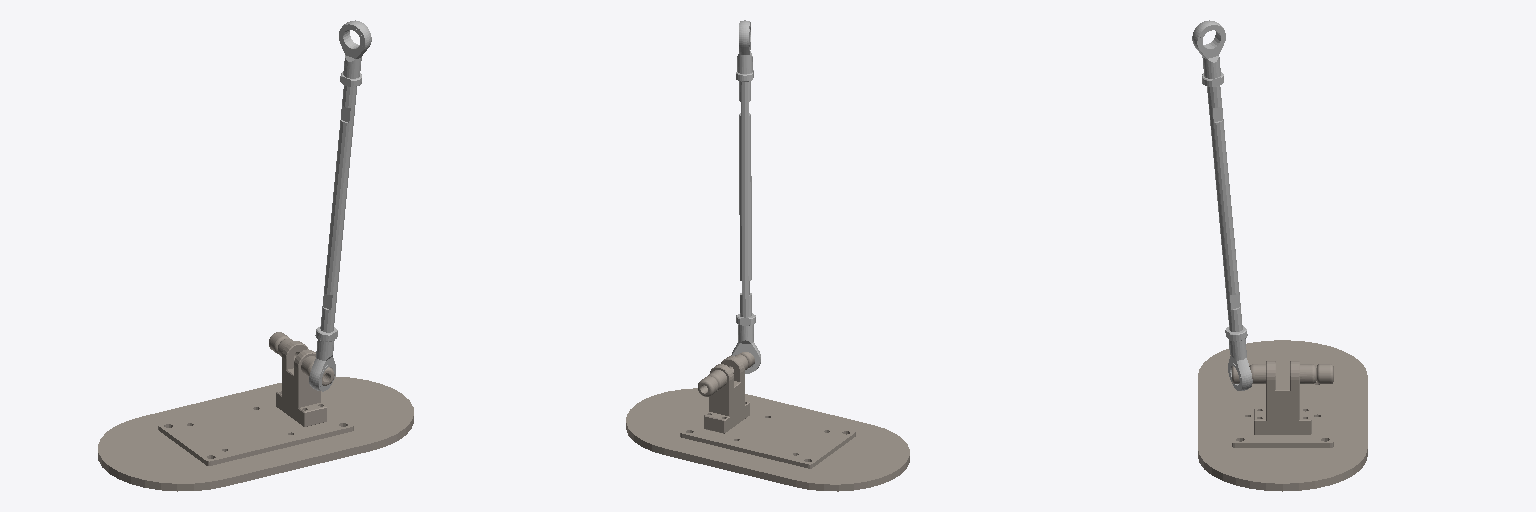
URDF robot description (AS_ankle_R2):
<?xml version="1.0" encoding="utf-8"?>

<robot
  name="AS_ankle_R2">
  <link
    name="Foot_link">
    <inertial>
      <origin
        xyz="-7.55063854190885E-07 -3.46944695195361E-18 -0.000843324114109798"
        rpy="0 0 0" />
      <mass
        value="0.835807251447352" />
      <inertia
        ixx="0.000560229778636803"
        ixy="-2.79822419196593E-19"
        ixz="-7.30466374127998E-20"
        iyy="0.00205349180242925"
        iyz="-3.41739150878633E-20"
        izz="0.00261060495382987" />
    </inertial>
    <visual>
      <origin
        xyz="0 0 0"
        rpy="0 0 0" />
      <geometry>
        <mesh
          filename="package://mycobot_description/urdf/ankle/Foot_link.STL" />
      </geometry>
      <material
        name="">
        <color
          rgba="0.650980392156863 0.619607843137255 0.588235294117647 1" />
      </material>
    </visual>
    <collision>
      <origin
        xyz="0 0 0"
        rpy="0 0 0" />
      <geometry>
        <mesh
          filename="package://mycobot_description/urdf/ankle/Foot_link.STL" />
      </geometry>
    </collision>
  </link>
  <link
    name="ankle_pitch_link">
    <inertial>
      <origin
        xyz="2.60528057460796E-12 -1.50705836698961E-12 -0.0188759122693511"
        rpy="0 0 0" />
      <mass
        value="0.106752054733386" />
      <inertia
        ixx="1.98275119652177E-05"
        ixy="6.99236315288813E-22"
        ixz="-8.88891489979795E-21"
        iyy="1.60212609029026E-05"
        iyz="-5.88644663207582E-21"
        izz="8.2137910632807E-06" />
    </inertial>
    <visual>
      <origin
        xyz="0 0 0"
        rpy="0 0 0" />
      <geometry>
        <mesh
          filename="package://mycobot_description/urdf/ankle/ankle_pitch_link.STL" />
      </geometry>
      <material
        name="">
        <color
          rgba="0.650980392156863 0.619607843137255 0.588235294117647 1" />
      </material>
    </visual>
    <collision>
      <origin
        xyz="0 0 0"
        rpy="0 0 0" />
      <geometry>
        <mesh
          filename="package://mycobot_description/urdf/ankle/ankle_pitch_link.STL" />
      </geometry>
    </collision>
  </link>
  <joint
    name="ankle_pitch_joint"
    type="fixed">
    <origin
      xyz="0.031 0 0.04"
      rpy="0 0 0" />
    <parent
      link="Foot_link" />
    <child
      link="ankle_pitch_link" />
    <axis
      xyz="0 0 0" />
    <limit
      lower="0.785"
      upper="-0.785"
      effort="0"
      velocity="0" />
  </joint>
  
  <link
    name="ankle_pitch_link_1">
    <inertial>
      <origin
        xyz="0.00577276036384791 -0.0341490630392297 0.111978541419757"
        rpy="0 0 0" />
      <mass
        value="0.0730861640649113" />
      <inertia
        ixx="0.000174352973677074"
        ixy="7.32984840689408E-07"
        ixz="-8.89419502206021E-06"
        iyy="0.000173650035272976"
        iyz="1.40959060007337E-05"
        izz="2.27318651019206E-06" />
    </inertial>
    <visual>
      <origin
        xyz="0 0 0"
        rpy="0 0 0" />
      <geometry>
        <mesh
          filename="package://mycobot_description/urdf/ankle/ankle_pitch_link_1.STL" />
      </geometry>
      <material
        name="">
        <color
          rgba="0.752941176470588 0.752941176470588 0.752941176470588 1" />
      </material>
    </visual>
    <collision>
      <origin
        xyz="0 0 0"
        rpy="0 0 0" />
      <geometry>
        <mesh
          filename="package://mycobot_description/urdf/ankle/ankle_pitch_link_1.STL" />
      </geometry>
    </collision>
  </link>
  <link name="dummy_x"/>
  <joint
    name="ankle_pitch_joint_1"
    type="revolute">
    <origin
      xyz="0 0 0"
      rpy="0 0 0" />
    <parent
      link="ankle_pitch_link" />
    <child
      link="dummy_x" />
    <axis
      xyz="1 0 0" />
    <limit
      lower="0.785"
      upper="-0.785"
      effort="1"
      velocity="2" />
  </joint>
  <joint
    name="ankle_pitch_joint_2"
    type="revolute">
    <origin
      xyz="0 0 0"
      rpy="0 0 0" />
    <parent
      link="dummy_x" />
    <child
      link="ankle_pitch_link_1" />
    <axis
      xyz="0 1 0" />
    <limit
      lower="0.785"
      upper="-0.785"
      effort="1"
      velocity="2" />
  </joint>

</robot>

--- Facts derived from the render (not from the file) ---
Views: 3 orthographic renders of the robot side by side, from view 1: azimuth 30°, elevation 25°; view 2: azimuth 150°, elevation 25°; view 3: azimuth 270°, elevation 25°.
Model AS_ankle_R2 with 4 links and 3 joints (2 revolute, 1 fixed), rooted at Foot_link, posed every joint at zero.
Links seen in each view (by area): view 1: Foot_link, ankle_pitch_link_1, ankle_pitch_link; view 2: Foot_link, ankle_pitch_link_1, ankle_pitch_link; view 3: Foot_link, ankle_pitch_link_1, ankle_pitch_link.
Boxes of the visible links, <box> form: Foot_link: <box>98,376,413,491</box>; ankle_pitch_link_1: <box>309,20,371,391</box>; ankle_pitch_link: <box>269,332,334,426</box>; Foot_link: <box>626,388,909,491</box>; ankle_pitch_link_1: <box>731,20,760,373</box>; ankle_pitch_link: <box>698,352,754,433</box>; Foot_link: <box>1198,340,1367,491</box>; ankle_pitch_link_1: <box>1192,20,1252,390</box>; ankle_pitch_link: <box>1232,361,1333,434</box>.
Size in the robot's own frame: 0.2 by 0.1032 by 0.2779 metres.
Meshes: 3 distinct files referenced, 3 mesh visuals loaded (3 binary STL).
